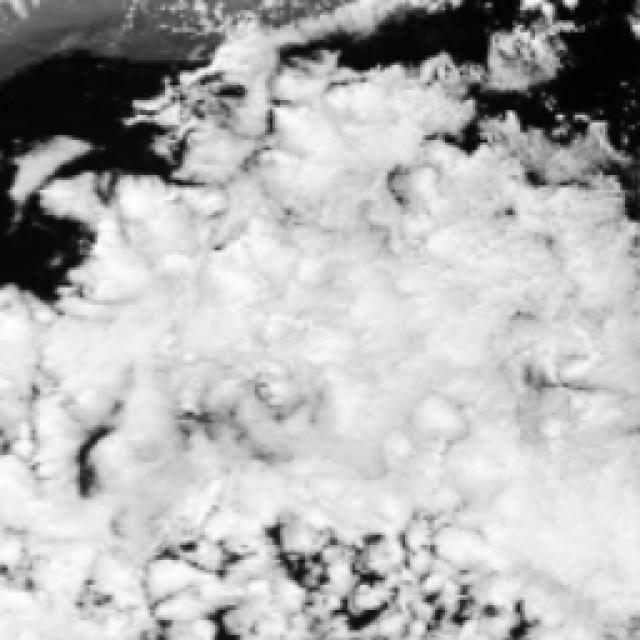CB: (238, 221, 443, 392), (440, 398, 620, 548), (96, 265, 297, 372), (132, 415, 336, 520), (270, 84, 410, 209)
